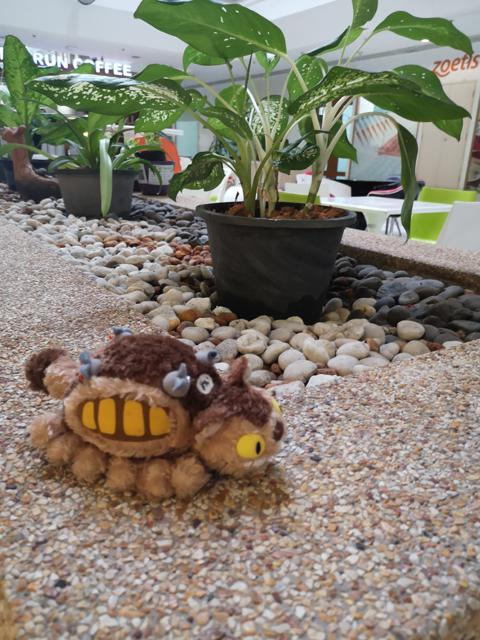nekobus: (22, 327, 290, 505)
